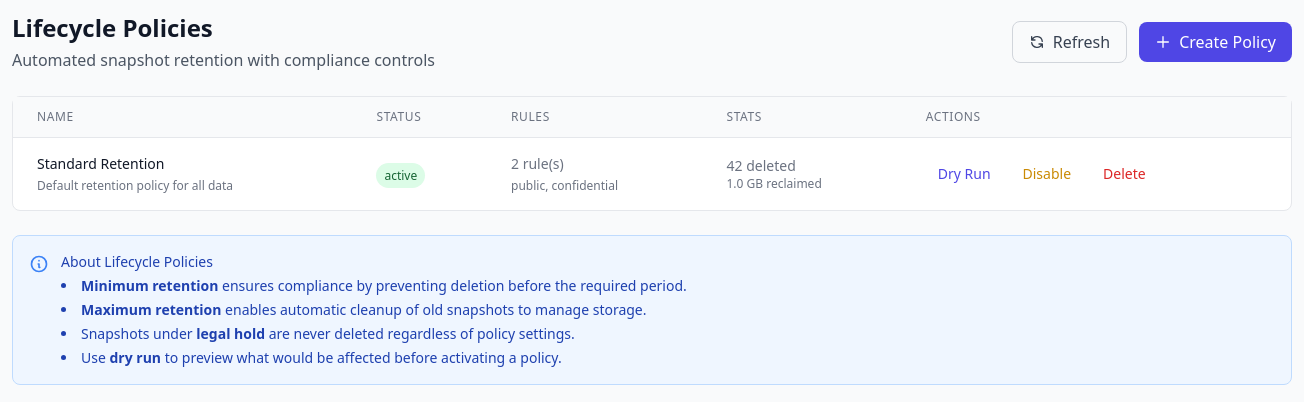
Test: LifecyclePolicies › shows delete confirmation on Delete click
Click the button "Delete".
click(1124, 174)  # box [1091, 160, 1158, 188]
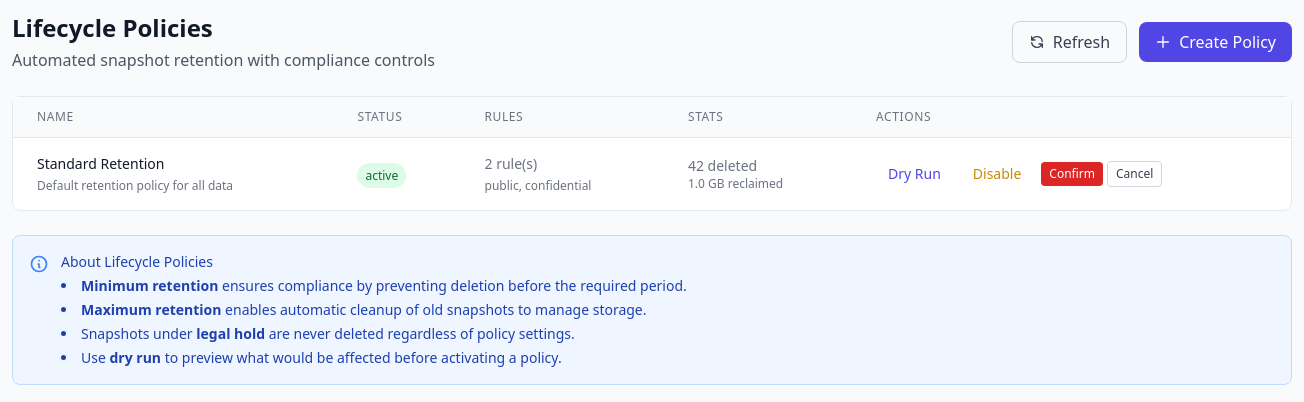
Check: the button "Confirm" is shown, box [1041, 162, 1103, 186]
Check: the button "Cancel" is shown, box [1107, 161, 1162, 187]
